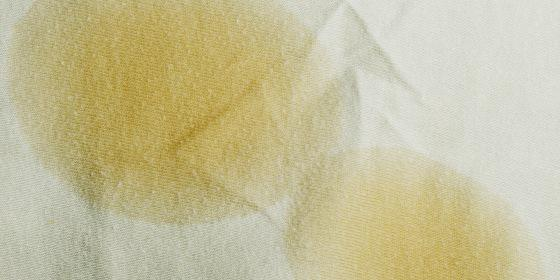gun: (10, 10, 310, 196), (286, 157, 536, 271)
